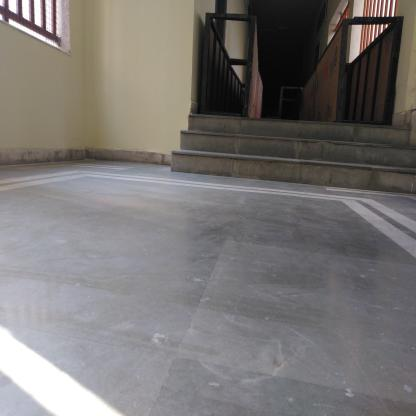stairs: (200, 122, 410, 182)
